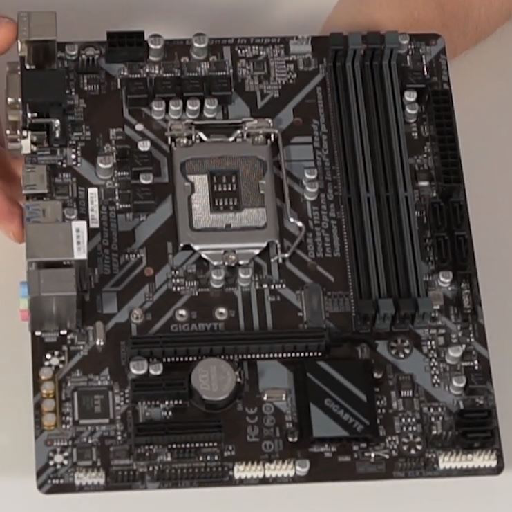CPU: (168, 135, 283, 268)
GPU: (117, 327, 362, 361)
MOTHERBOARD: (12, 26, 506, 492)
RAM: (323, 30, 439, 330)
SSD: (295, 282, 328, 331)
